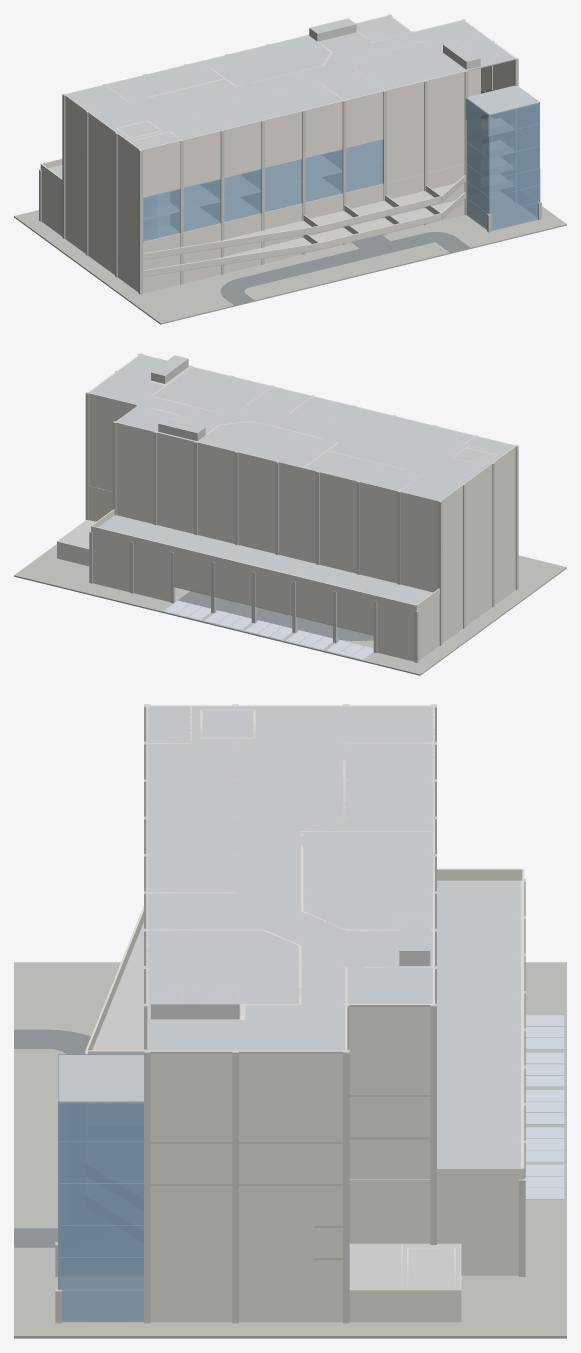
Rendered from Entertainment_Complex.glb.
The picture shows the model from 3 angles, top to bottom: view 1: azimuth 30°, elevation 25°; view 2: azimuth 150°, elevation 25°; view 3: azimuth 270°, elevation 25°; orthographic projection. The views are drawn at different scales.
Parts seen in each view (by area): view 1: IfcWall_0, IfcSlab_7, IfcCurtainWall_1, IfcSlab_5, IfcSlab_6, IfcColumn_4, IfcCovering_8, IfcWall_14; view 2: IfcWall_0, IfcSlab_7, IfcColumn_4, IfcSlab_5, IfcBuildingElementProxy_9, IfcCovering_8, IfcSlab_6, IfcWall_14; view 3: IfcSlab_7, IfcWall_0, IfcSlab_5, IfcCurtainWall_1, IfcColumn_4, IfcSlab_6, IfcBuildingElementProxy_9, IfcCovering_8, IfcWall_14.
Part boxes in pixels (left/top/right/bottom): IfcWall_0: left=40, top=15, right=515, bottom=293; IfcSlab_7: left=48, top=15, right=539, bottom=178; IfcCurtainWall_1: left=143, top=94, right=540, bottom=241; IfcSlab_5: left=14, top=191, right=566, bottom=324; IfcSlab_6: left=143, top=114, right=513, bottom=276; IfcColumn_4: left=39, top=14, right=541, bottom=294; IfcCovering_8: left=220, top=232, right=470, bottom=305; IfcWall_14: left=309, top=22, right=480, bottom=190; IfcWall_0: left=57, top=354, right=516, bottom=661; IfcSlab_7: left=90, top=354, right=514, bottom=604; IfcColumn_4: left=85, top=353, right=518, bottom=662; IfcSlab_5: left=14, top=544, right=566, bottom=675; IfcBuildingElementProxy_9: left=164, top=600, right=373, bottom=659; IfcCovering_8: left=178, top=591, right=373, bottom=640; IfcSlab_6: left=57, top=520, right=373, bottom=635; IfcWall_14: left=151, top=359, right=205, bottom=441; IfcSlab_7: left=58, top=705, right=521, bottom=1167; IfcWall_0: left=85, top=705, right=524, bottom=1322; IfcSlab_5: left=14, top=962, right=566, bottom=1338; IfcCurtainWall_1: left=58, top=1054, right=143, bottom=1322; IfcColumn_4: left=55, top=704, right=525, bottom=1323; IfcSlab_6: left=92, top=922, right=460, bottom=1290; IfcBuildingElementProxy_9: left=525, top=1015, right=564, bottom=1199; IfcCovering_8: left=14, top=1029, right=90, bottom=1247; IfcWall_14: left=150, top=915, right=430, bottom=1019.
Bounding box in the file's own units: 80 × 29.5 × 50.
